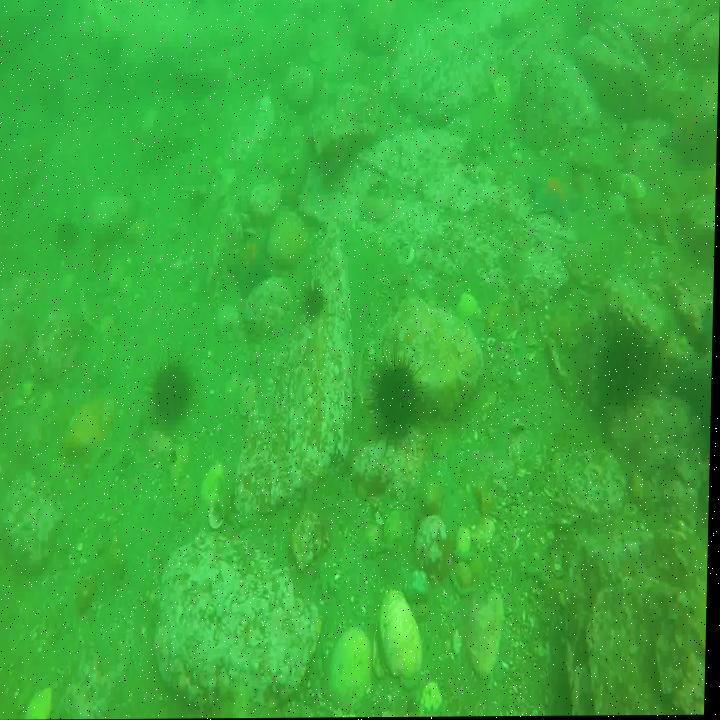echinus: (593, 317, 657, 413), (374, 361, 425, 447), (153, 357, 194, 434), (303, 279, 329, 329)
scallop: (379, 593, 430, 691), (335, 623, 376, 713)
starfish: (673, 301, 714, 466), (663, 105, 718, 176), (529, 166, 587, 229), (232, 227, 279, 292)
